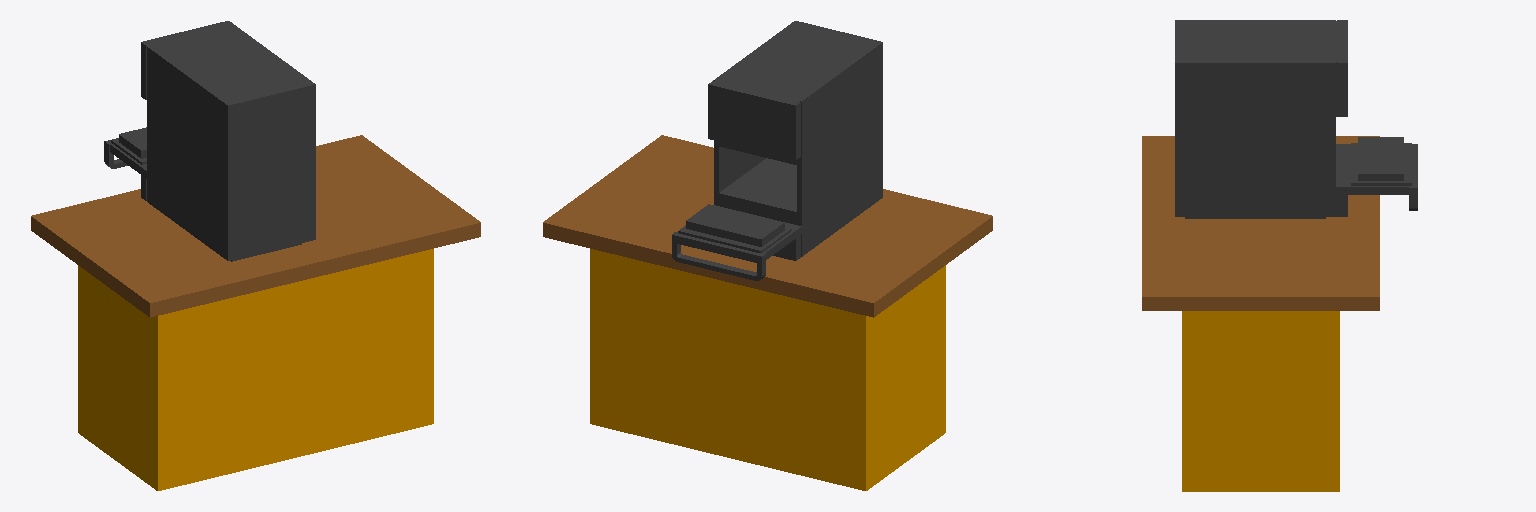
URDF robot description (table_zone_4):
<?xml version="1.0" ?>
<robot name="table_zone_4">
  <link name="table_4">
    <inertial>
      <origin xyz="0 0 0" rpy="0 0 0"/>
      <mass value="45.0"/>
      <inertia ixx="1.0" ixy="0" ixz="0" iyy="1.0" iyz="0" izz="1.0"/>
    </inertial>
    <visual>
      <origin xyz="0 0 0.7" rpy="0 0 0"/>
      <geometry><box size="1.2 0.75 0.05"/></geometry>
      <material name="wood"><color rgba="0.6 0.4 0.2 1"/></material>
    </visual>
    <collision>
      <origin xyz="0 0 0.7" rpy="0 0 0"/>
      <geometry><box size="1.2 0.75 0.05"/></geometry>
    </collision>
    <visual> <origin xyz="0 0 0.35" rpy="0 0 0"/>
      <geometry><box size="1.0 0.5 0.7"/></geometry>
    </visual>
    <collision>
      <origin xyz="0 0 0.7" rpy="0 0 0"/>
      <geometry><box size="1.0 0.5 0.7"/></geometry>
    </collision>
  </link>
  
   <link name="oven">
    <inertial>
      <origin xyz="0 0 0" rpy="0 0 0"/>
      <mass value="5.0"/> <inertia ixx="0.1" ixy="0" ixz="0" iyy="0.1" iyz="0" izz="0.1"/>
    </inertial>
    
    <visual>
        <origin xyz="0 0 0" rpy="0 0 0" />
        <geometry>
            <mesh filename="oven_open.stl" scale="0.0009 0.0009 0.0009"/>
        </geometry>
        <material name="gray">
            <color rgba="0.3 0.3 0.3 1.0" />
        </material>
    </visual>

    <collision>
      <origin xyz="0 0 0" rpy="0 0 0" />
      <geometry>
        <mesh filename="oven_open.stl" scale="0.0009 0.0009 0.0009"/>
      </geometry>
    </collision>
  </link>

  <joint name="j_oven" type="fixed">
    <parent link="table_4"/><child link="oven"/>
    <origin xyz="-0.1 0 0.75" rpy="0 0 0"/>
  </joint>
</robot>

--- Render facts (derived) ---
Views: 3 orthographic renders of the robot side by side, from view 1: azimuth 30°, elevation 25°; view 2: azimuth 150°, elevation 25°; view 3: azimuth 270°, elevation 25°.
Robot: table_zone_4 — 2 links, 1 joints (1 fixed); root link table_4; default pose: every joint at zero.
Visible links, largest first — view 1: table_4, oven; view 2: table_4, oven; view 3: table_4, oven.
Boxes of the visible links, x1,y1,x2,y2 form: table_4: (31,135,480,490); oven: (104,21,315,261); table_4: (543,135,992,490); oven: (672,21,882,280); table_4: (1142,136,1379,491); oven: (1175,20,1417,218).
Size in the robot's own frame: 1.2 by 0.8691 by 1.29 metres.
1 mesh visuals loaded from 1 distinct referenced files (1 binary STL).
